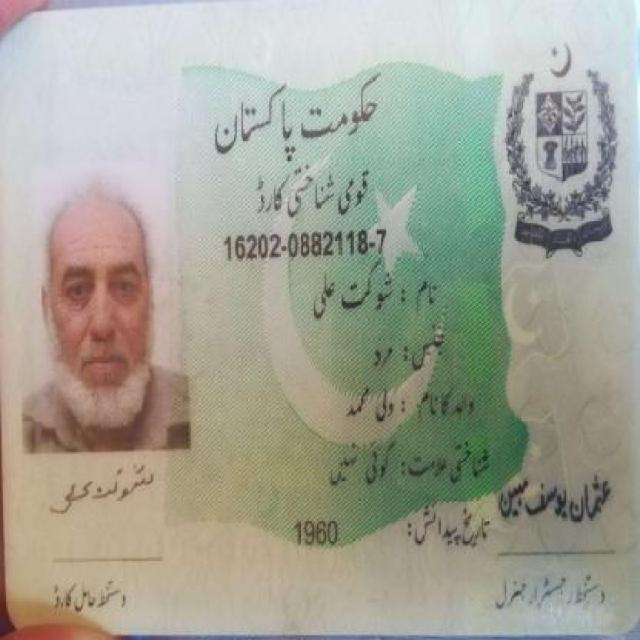Front: (3, 9, 637, 625)
